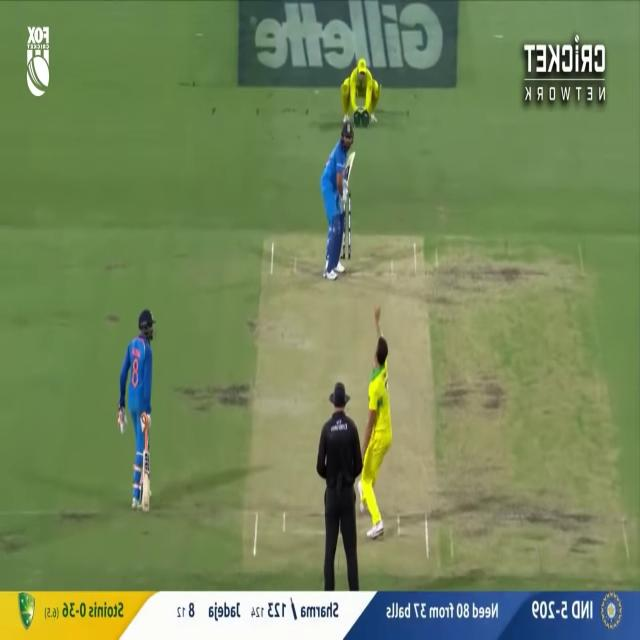stump: (340, 189, 351, 261)
